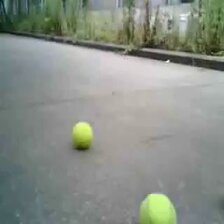tennis: (138, 193, 177, 224), (71, 121, 92, 148)
